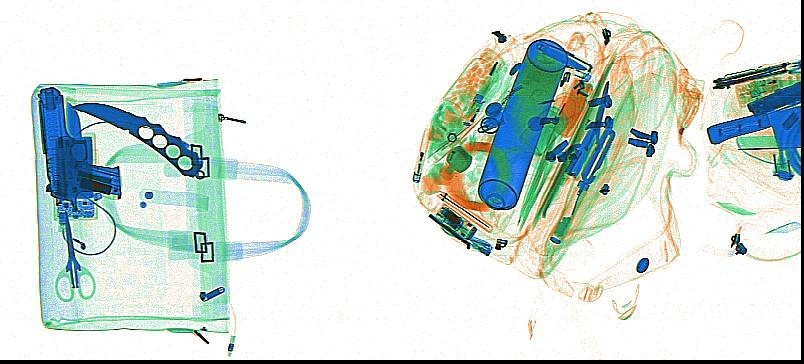knife: (69, 101, 204, 178), (548, 115, 616, 246), (707, 103, 799, 153), (435, 190, 494, 233), (709, 61, 789, 91), (534, 38, 595, 73), (745, 76, 798, 116), (566, 123, 598, 179), (63, 98, 85, 164)
lighter: (411, 126, 432, 185)
pressure: (475, 36, 567, 212)
scissors: (52, 210, 98, 303)
